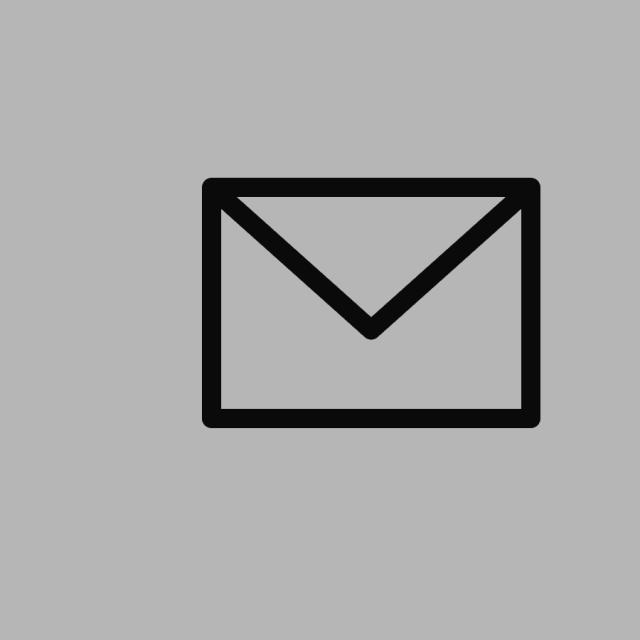letter: (194, 175, 545, 436)
